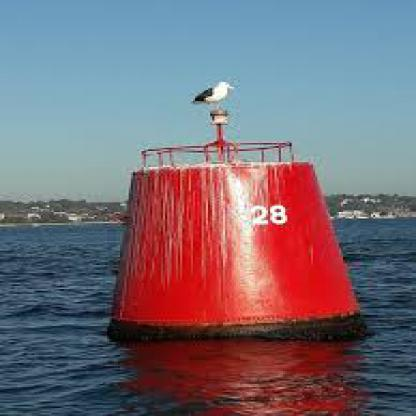buoy: (96, 64, 371, 347)
